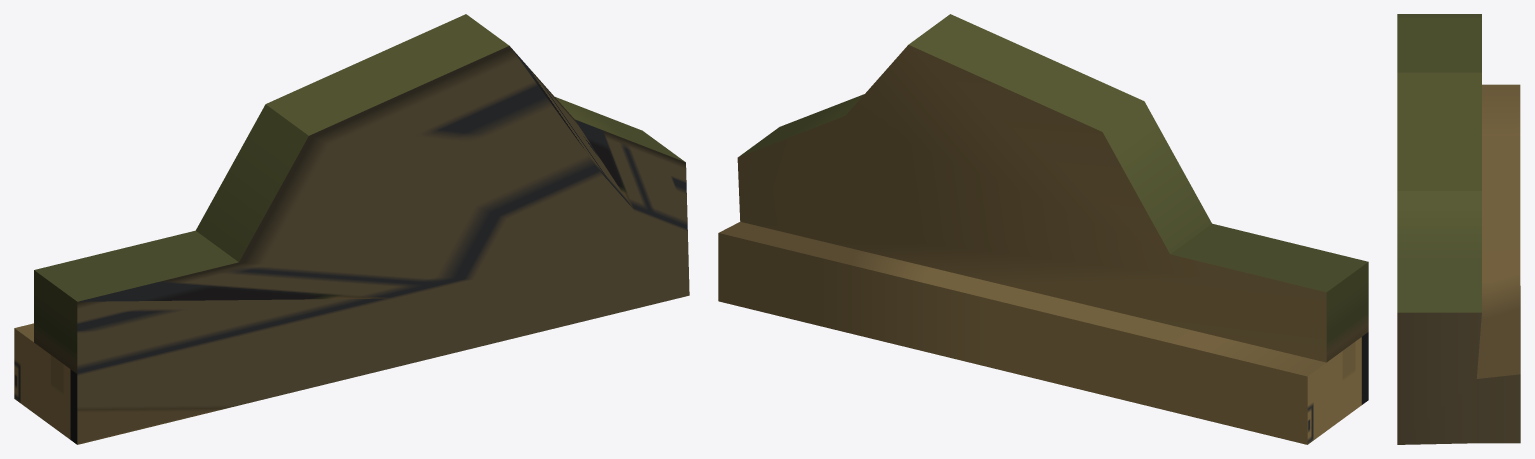
File: wall_damaged_02.gltf
The picture shows the model from 3 angles, left to right: view 1: azimuth 30°, elevation 25°; view 2: azimuth 150°, elevation 25°; view 3: azimuth 270°, elevation 25°; orthographic projection. The views are drawn at different scales.
Visible parts, largest first — view 1: wall_damaged_02; view 2: wall_damaged_02; view 3: wall_damaged_02.
Part boxes in pixels (x1,y1,x2,y2): wall_damaged_02: (14,14,689,444); wall_damaged_02: (718,14,1368,444); wall_damaged_02: (1397,14,1520,444).
Size of the model in its own units: 3.46 by 1.59 by 0.6182.
1 material, 1 textured.
